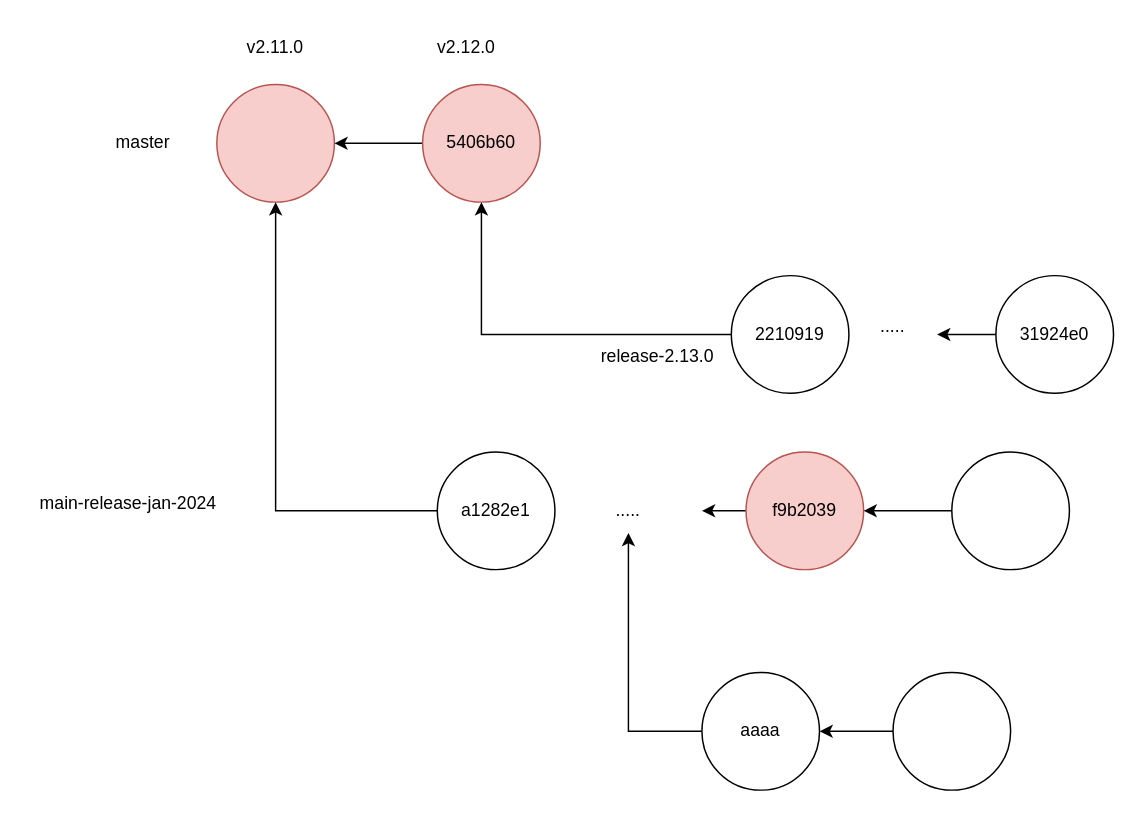
The diagram is 1139 pixels wide and 816 high, and some of its shapes have lost their labels. Here are the shapes that lost their labels. From the top down, the centre of each, then its label:
(274,142): 5a2dcc2
(1009,510): xxxx
(951,730): dfgdf
